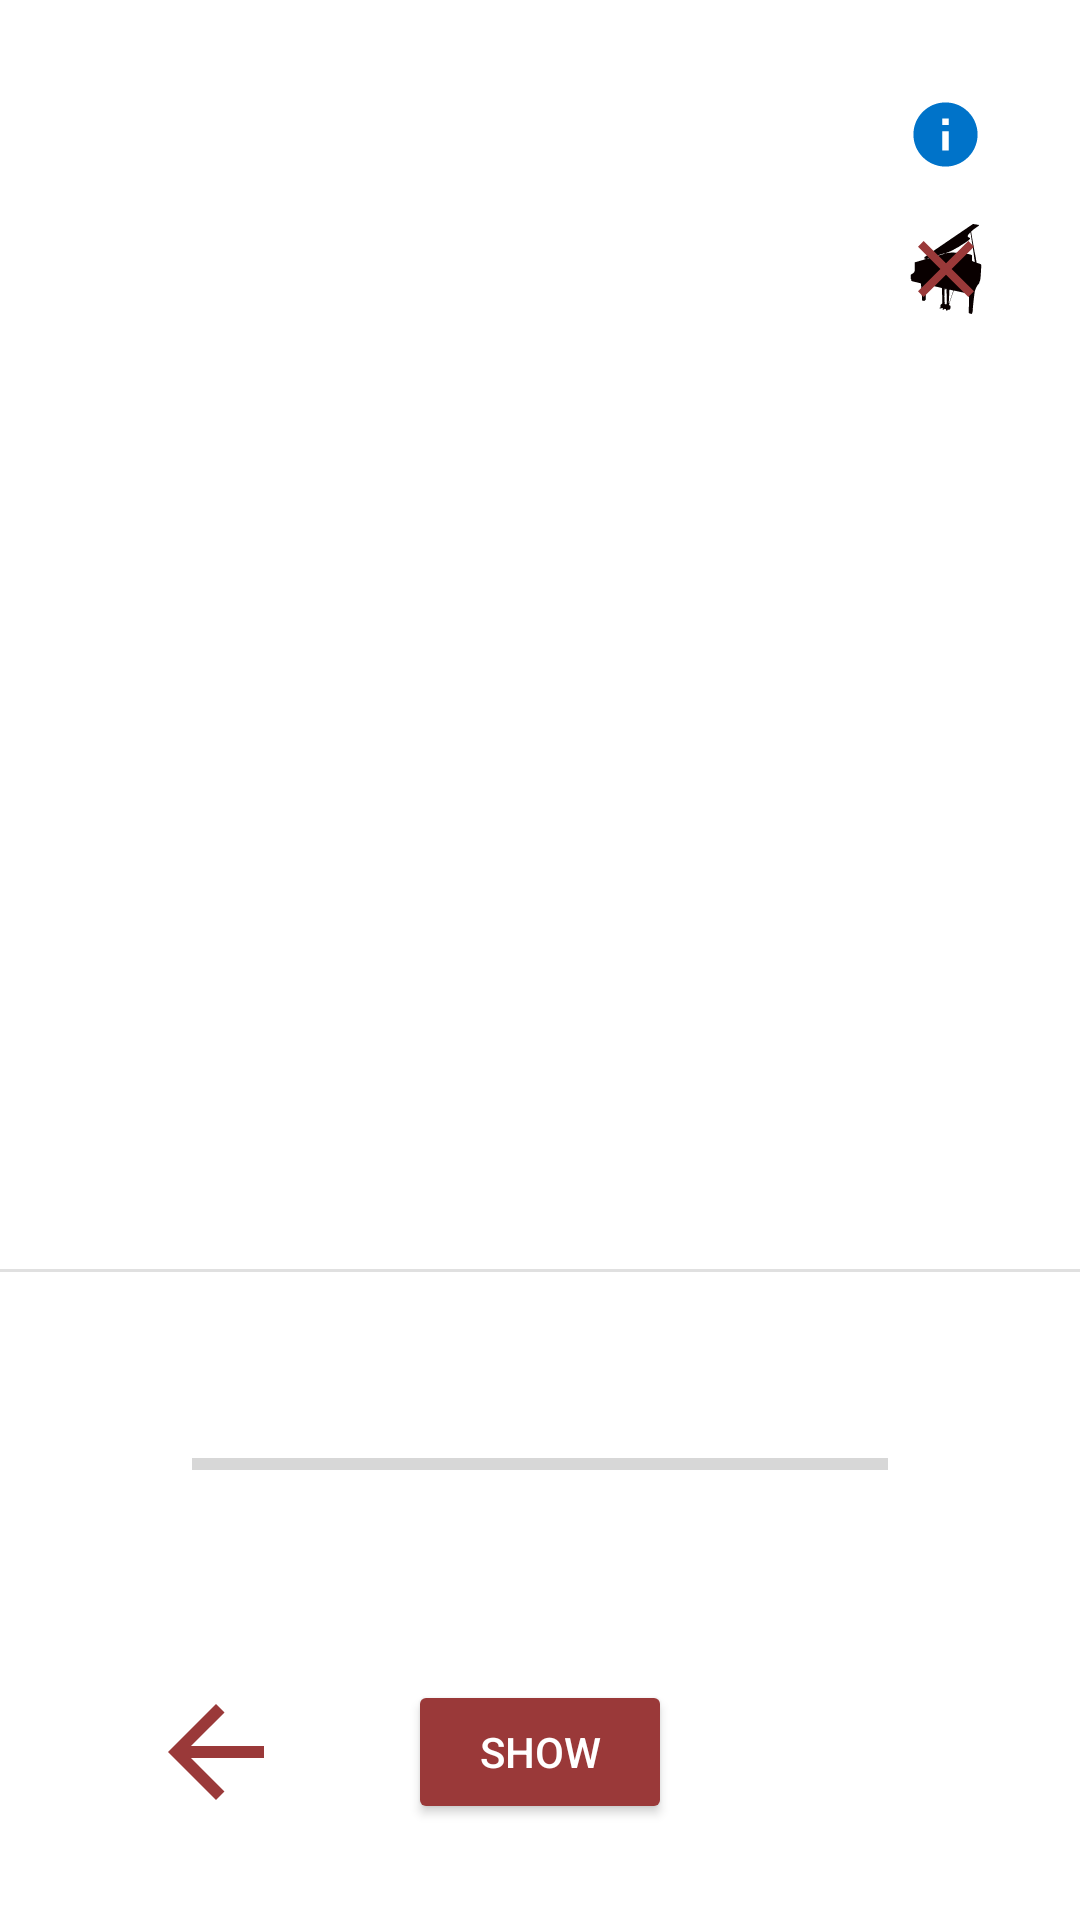

Where to tap for icons on this 1080w x 1920h app screen, as (x,y):
back: (216,1752)
info: (945,134)
